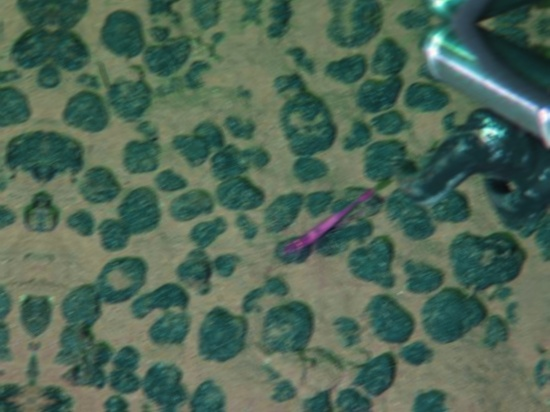halobolite: (449, 226, 522, 291), (416, 285, 486, 347), (196, 306, 253, 365), (58, 329, 110, 386), (259, 303, 314, 356), (360, 290, 412, 343), (346, 236, 397, 288), (238, 271, 294, 318), (66, 160, 117, 210), (98, 10, 148, 59), (384, 189, 433, 238), (97, 254, 144, 305), (97, 281, 159, 319), (140, 37, 200, 76), (141, 364, 188, 412), (289, 143, 339, 188), (355, 348, 399, 399), (57, 285, 109, 328), (118, 189, 164, 237), (93, 203, 136, 254), (66, 82, 107, 135), (1, 135, 40, 190), (363, 137, 412, 180), (107, 76, 151, 123), (242, 1, 292, 42), (273, 229, 328, 266), (511, 188, 546, 246), (52, 9, 96, 55), (335, 182, 379, 227), (18, 288, 59, 336), (398, 77, 446, 117), (1, 28, 41, 75), (140, 279, 191, 314), (218, 173, 255, 220), (263, 184, 302, 227), (325, 52, 369, 90), (146, 164, 195, 198), (306, 376, 352, 412), (337, 2, 380, 39), (369, 38, 418, 70), (117, 312, 163, 345), (117, 141, 161, 174), (218, 106, 257, 143), (211, 245, 248, 282), (332, 309, 362, 353), (409, 379, 449, 412), (336, 118, 380, 147), (479, 309, 508, 353), (23, 208, 59, 241), (189, 378, 223, 412), (173, 253, 209, 285), (63, 204, 95, 239), (192, 208, 222, 244), (271, 67, 300, 104), (154, 116, 191, 145), (169, 144, 203, 175), (188, 1, 219, 32), (197, 138, 233, 164), (143, 1, 182, 25), (1, 196, 19, 244), (1, 1, 34, 27), (1, 303, 20, 347), (377, 329, 409, 355), (98, 389, 133, 412), (268, 377, 297, 404), (108, 366, 135, 395), (113, 345, 140, 370), (1, 68, 11, 93)
